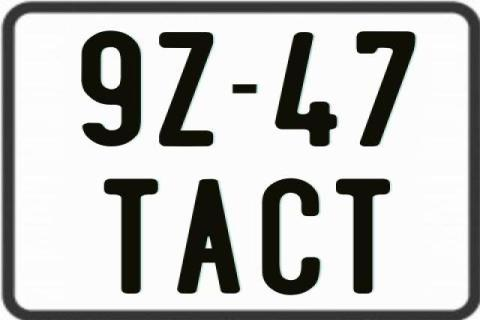0: (79, 28, 143, 147), (272, 30, 336, 146), (353, 29, 417, 145)
A: (177, 178, 246, 294)
C: (261, 178, 322, 298)
T: (334, 179, 394, 297), (102, 178, 161, 294)
Z: (158, 29, 214, 145)
